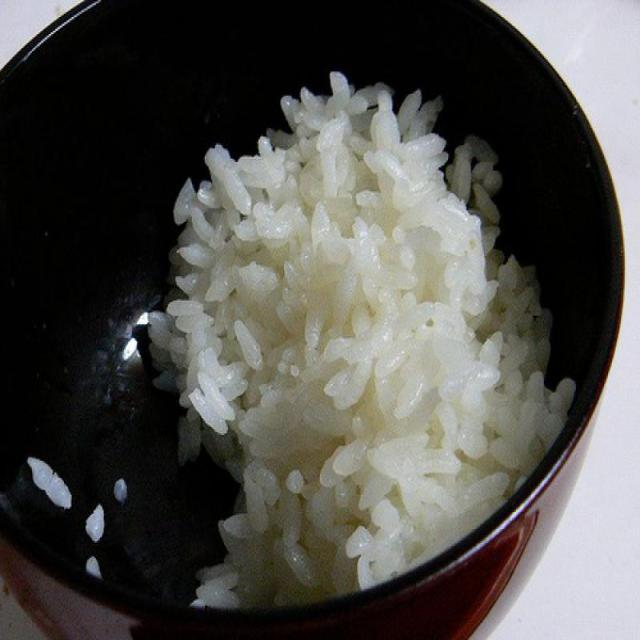nasi_putih: (146, 65, 576, 610)
